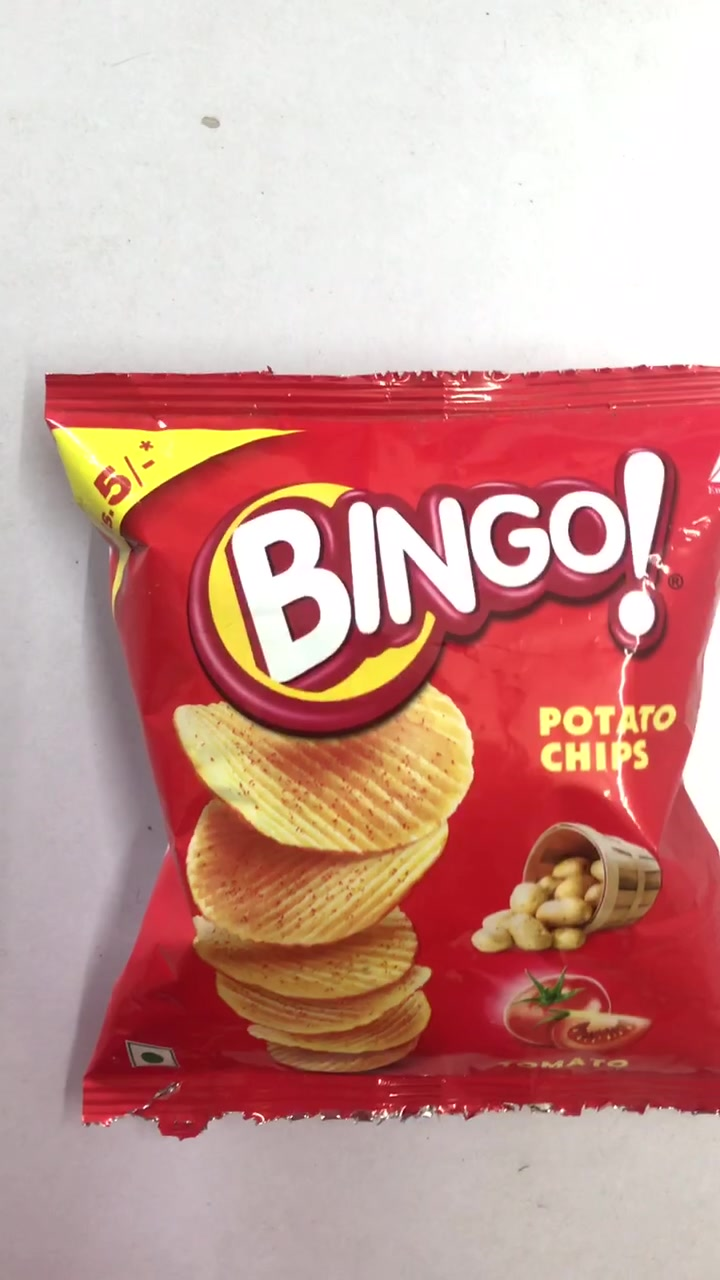Bingo: (46, 368, 720, 1120)
